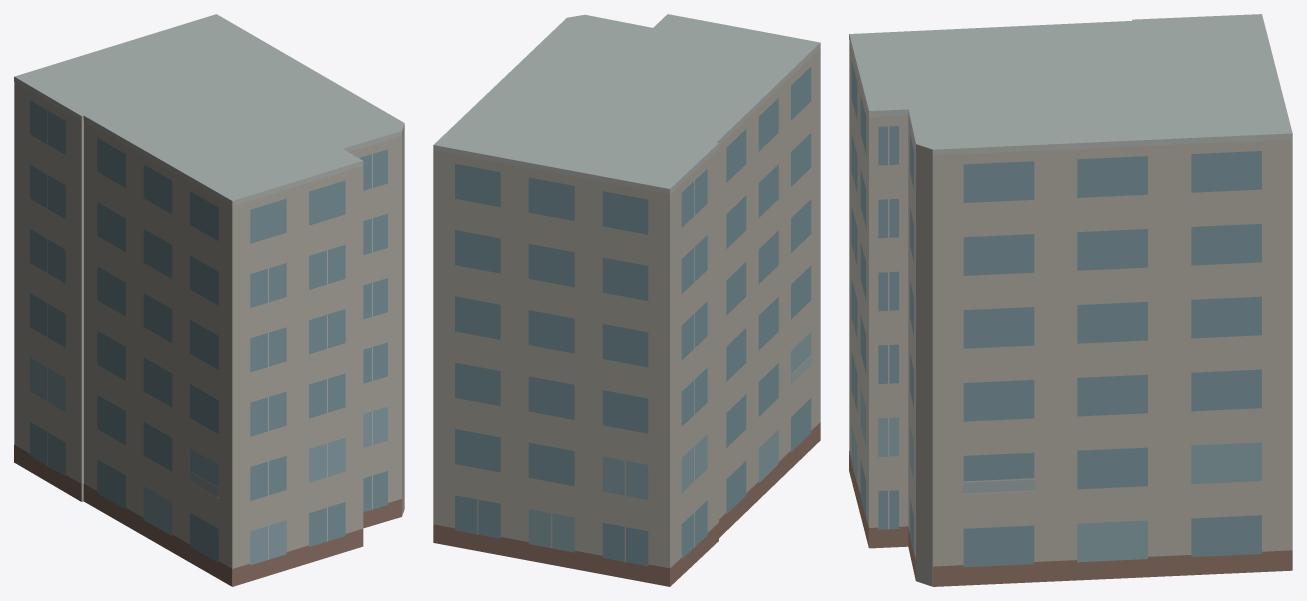
Rendered from survey-upis-32700338.glb.
The picture shows the model from 3 angles, left to right: view 1: azimuth 30°, elevation 25°; view 2: azimuth 150°, elevation 25°; view 3: azimuth 270°, elevation 25°; orthographic projection. The views are drawn at different scales.
Visible parts, largest first — view 1: survey-upis-32700338.tmp; view 2: survey-upis-32700338.tmp; view 3: survey-upis-32700338.tmp.
Boxes of the visible parts, left/top/right/bottom form: survey-upis-32700338.tmp: left=14, top=14, right=404, bottom=586; survey-upis-32700338.tmp: left=433, top=14, right=820, bottom=586; survey-upis-32700338.tmp: left=849, top=14, right=1292, bottom=586.
Bounding box in the file's own units: 12.19 × 18.3 × 16.83.
